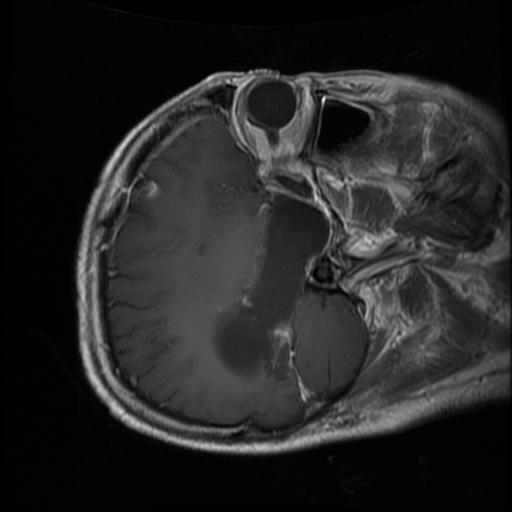glioma: (212, 191, 330, 384)
